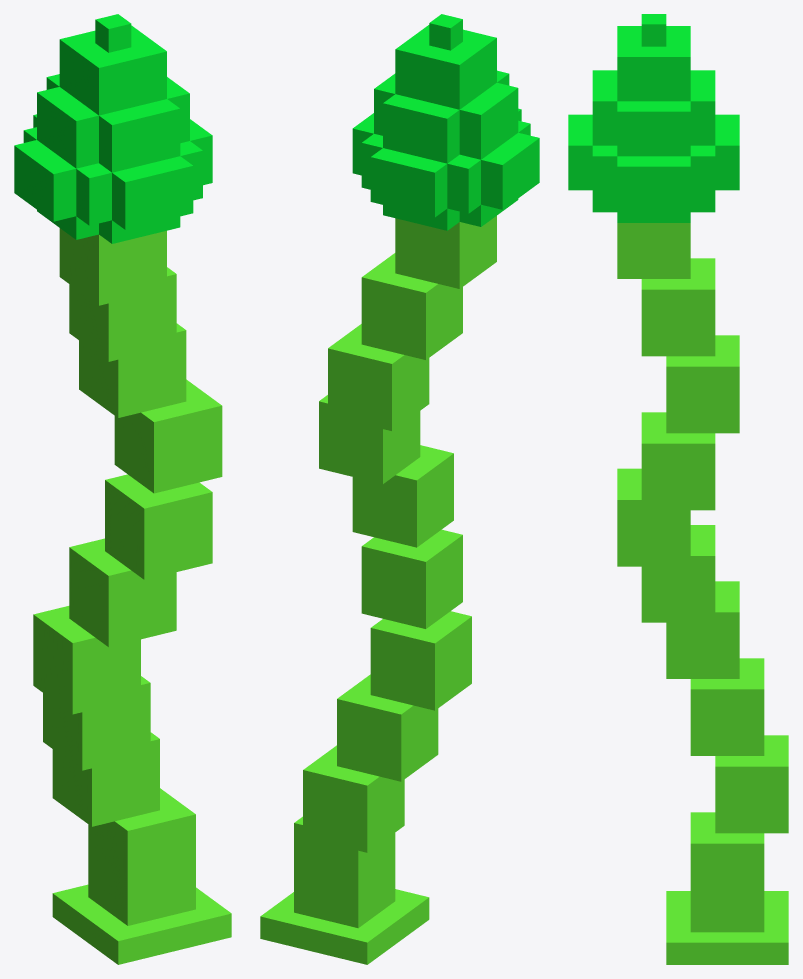
The model's file is Plant1.dae.
3 views of the same model, side by side, from view 1: azimuth 30°, elevation 25°; view 2: azimuth 150°, elevation 25°; view 3: azimuth 270°, elevation 25° (orthographic). The views are drawn at different scales.
Visible parts, largest first — view 1: Plant1; view 2: Plant1; view 3: Plant1.
Part boxes in pixels (bbox=[...]): Plant1: bbox=[14, 14, 231, 964]; Plant1: bbox=[260, 14, 539, 964]; Plant1: bbox=[568, 14, 788, 964].
Size of the model in its own units: 0.9 by 4 by 0.9.
Materials: 1 (1 with a texture image).
